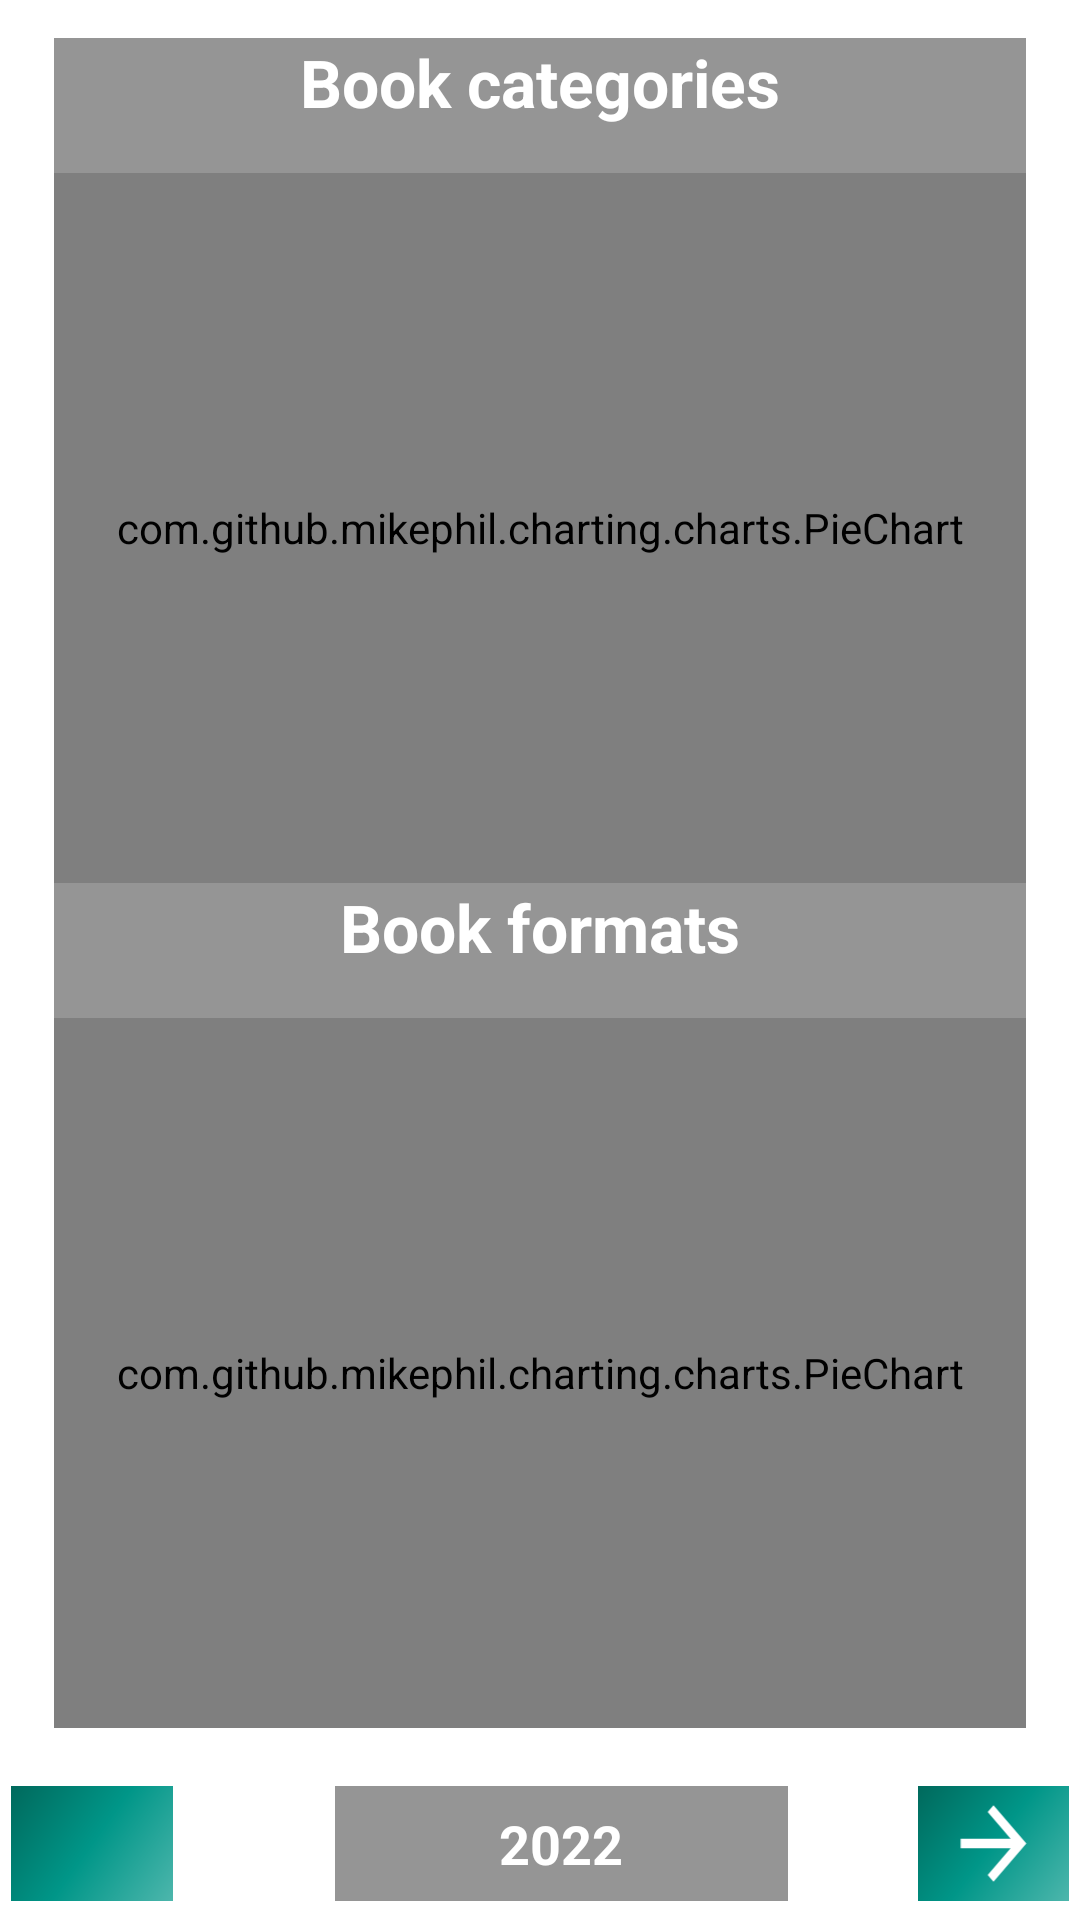

Point at icon controls on the screen. Image size 1080 × 1920, points as point (x, y).
next: point (993, 1843)
